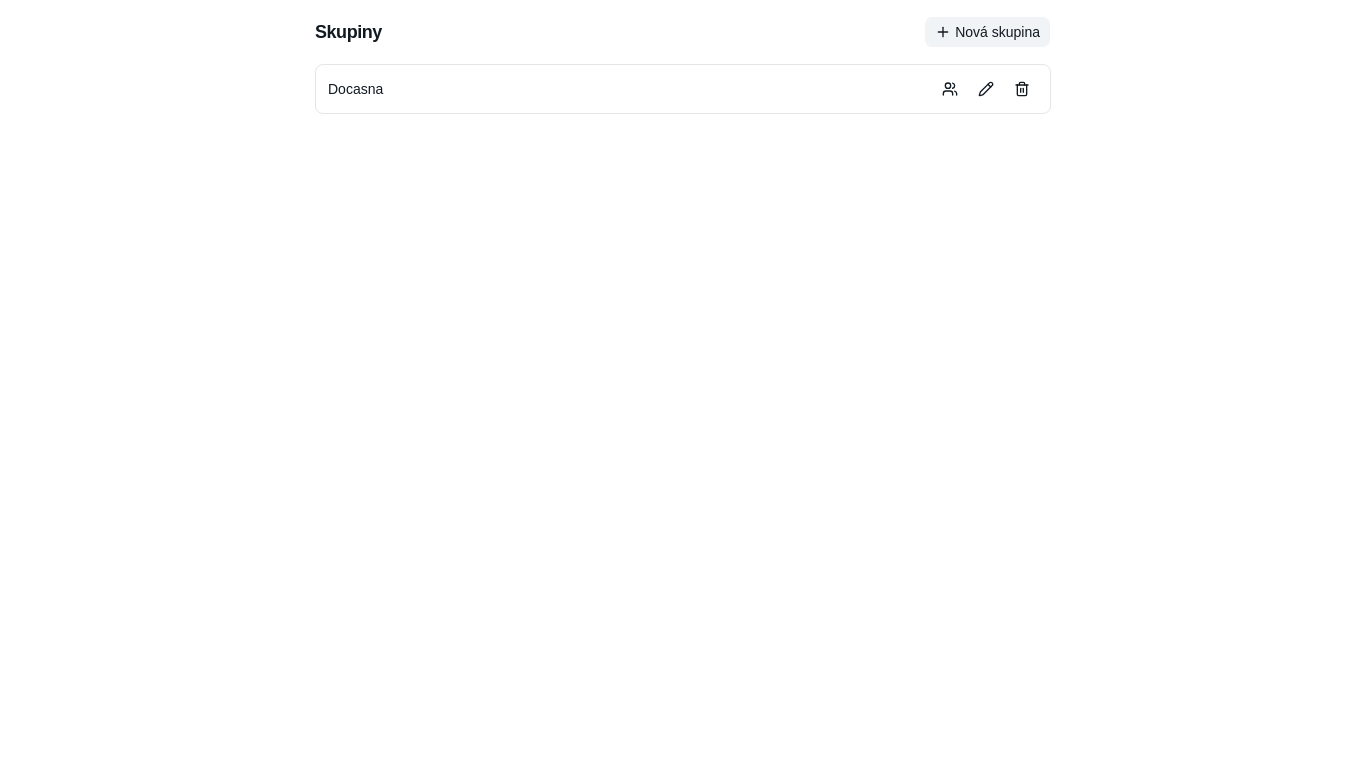
Test case: GroupsScreen actions › deletes a group after confirmation
Click the button named "Smazat skupinu Docasna": x=1022, y=89 [1006,73,1038,105]
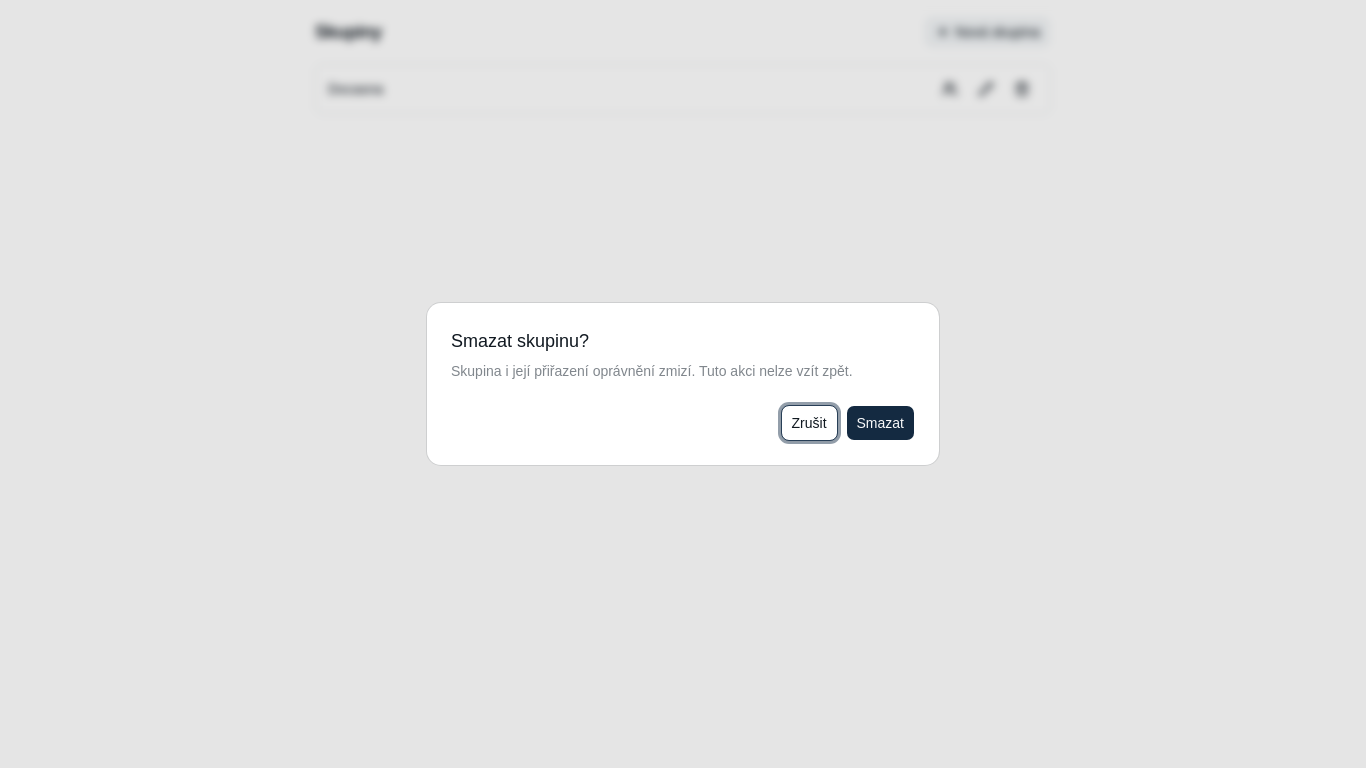
Click the button "Smazat": x=880, y=423 [846,405,915,441]
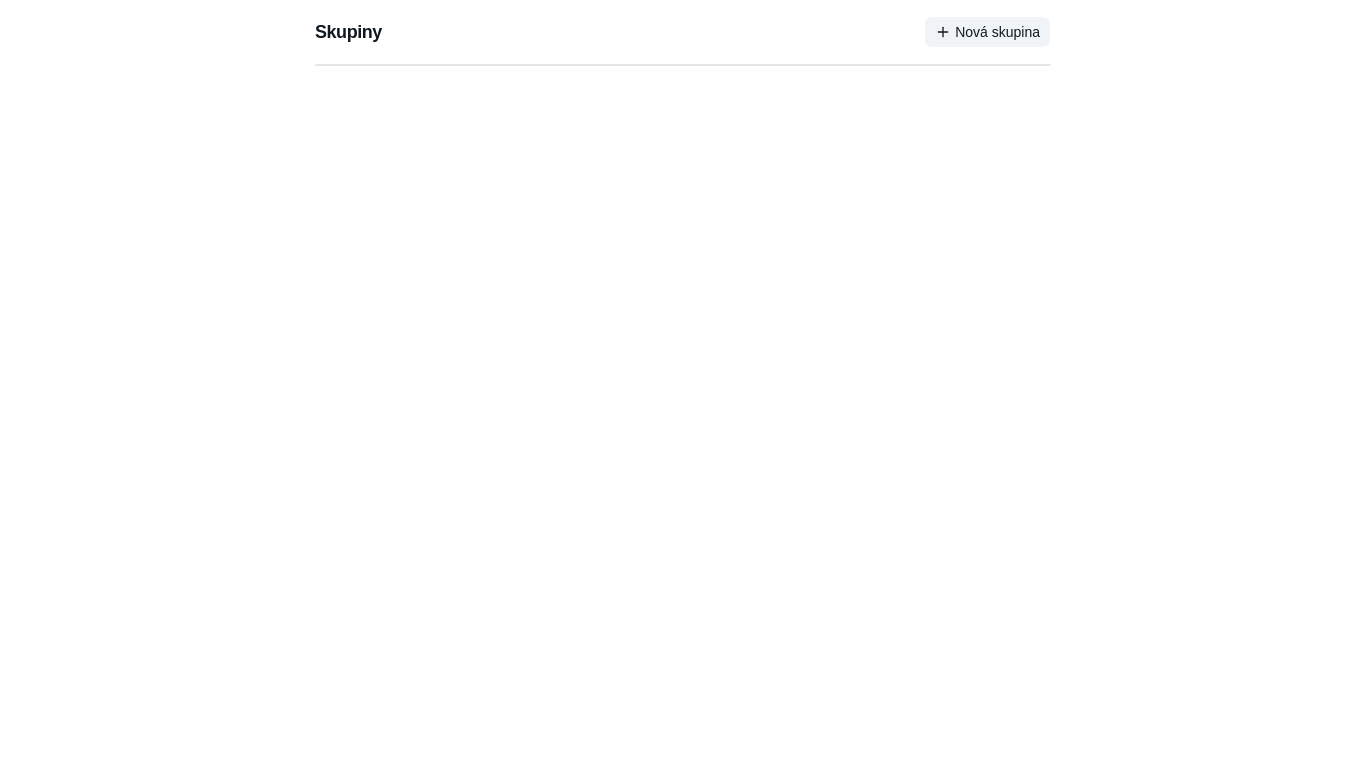
Result: the text "Docasna" is gone
